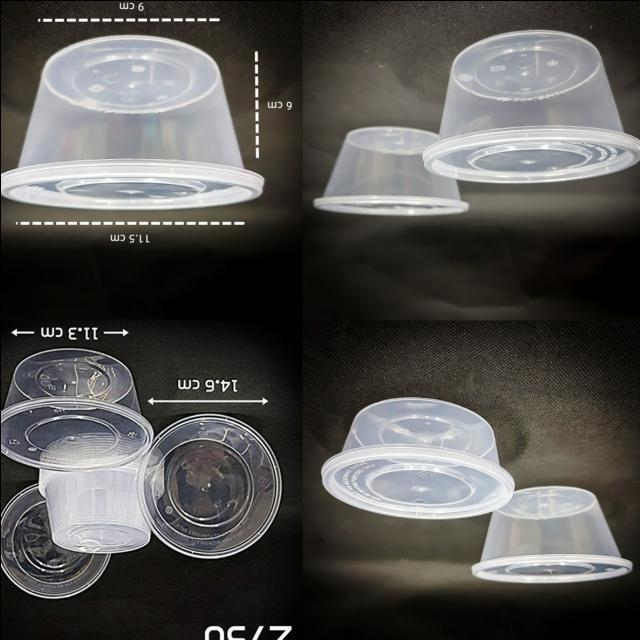plastik: (0, 35, 263, 209), (422, 30, 640, 182), (321, 396, 513, 518), (137, 413, 281, 558), (0, 346, 152, 471), (470, 485, 631, 583), (312, 126, 468, 214), (0, 483, 109, 597), (39, 460, 149, 553)
